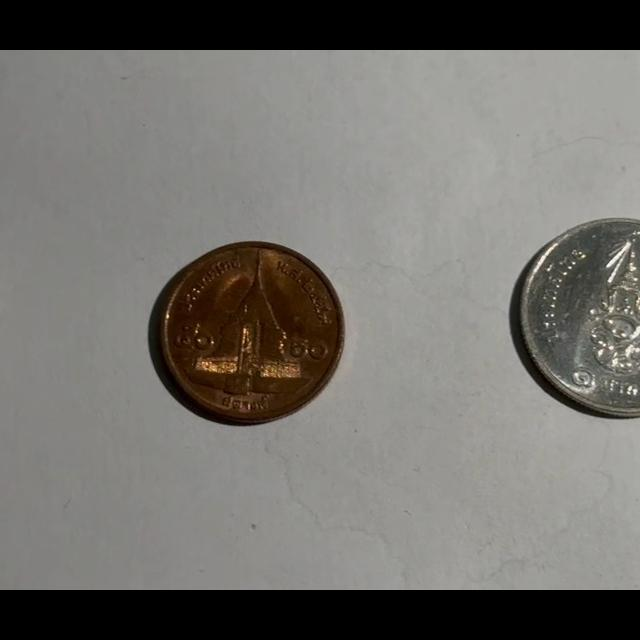1-baht: (513, 218, 640, 417)
50-satang: (155, 244, 343, 423)
